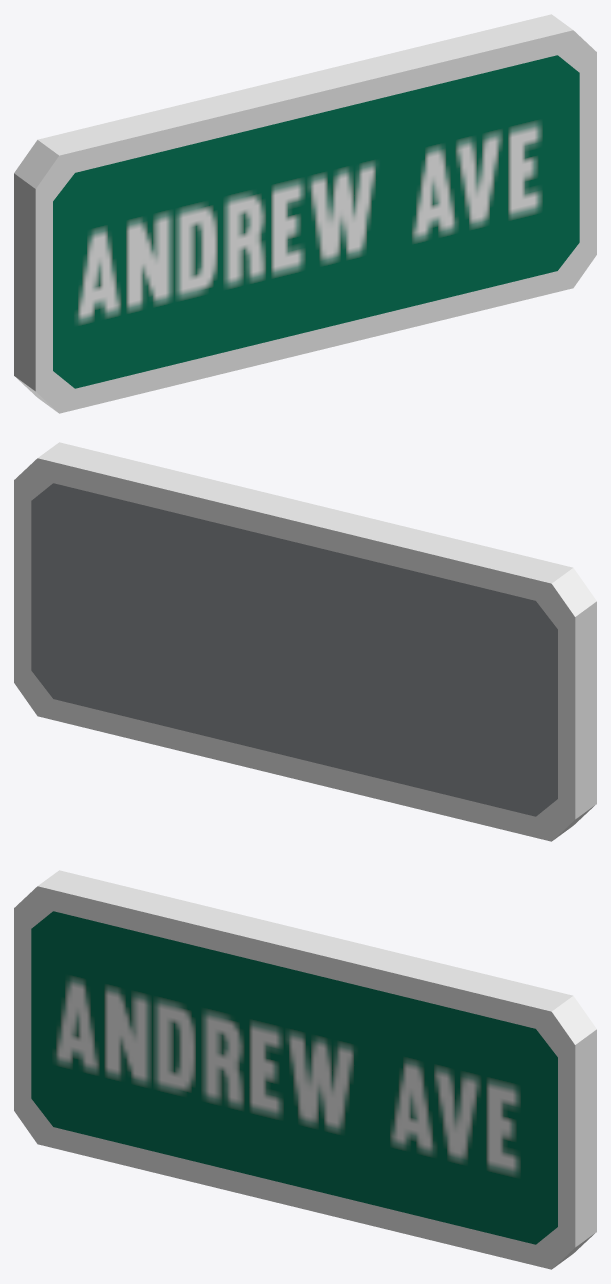
Rendered from SM_Prop_StreetSign_05.fbx.
3 views of the same model, one above another, from view 1: azimuth 30°, elevation 25°; view 2: azimuth 150°, elevation 25°; view 3: azimuth 330°, elevation 25° (orthographic).
Parts seen in each view (by area): view 1: SM_Prop_StreetSign_05; view 2: SM_Prop_StreetSign_05; view 3: SM_Prop_StreetSign_05.
Boxes of the visible parts, bbox=[...] form: SM_Prop_StreetSign_05: bbox=[14, 14, 596, 413]; SM_Prop_StreetSign_05: bbox=[14, 442, 596, 841]; SM_Prop_StreetSign_05: bbox=[14, 870, 596, 1269].
Size of the model in its own units: 65.4 by 28.74 by 4.4.
